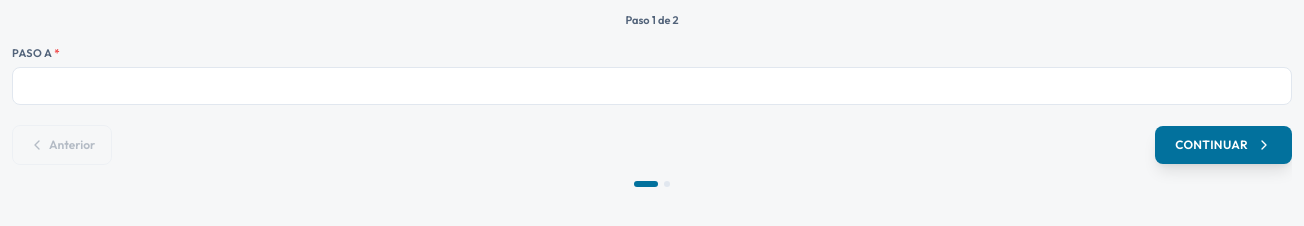
CmsFormRenderer (componente) › valida el paso actual antes de avanzar en un formulario multi-paso
The image size is (1304, 226).
Check: the text "Paso 1 de 2" is shown, box [625,13,679,27]
Sin llenar el paso 1, no avanza.
Click the button "Continuar".
click(1224, 144)  # box [1155,126,1292,164]
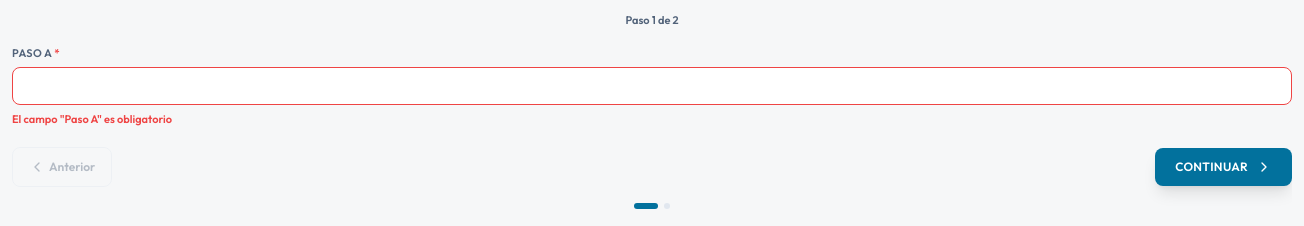
Check: the text "Paso 1 de 2" is shown, box [625,13,679,27]
Llena y avanza.
Type "ok" into the field labelled "Paso A *".
click(652, 86); type("ok")  # box [12,67,1292,104]
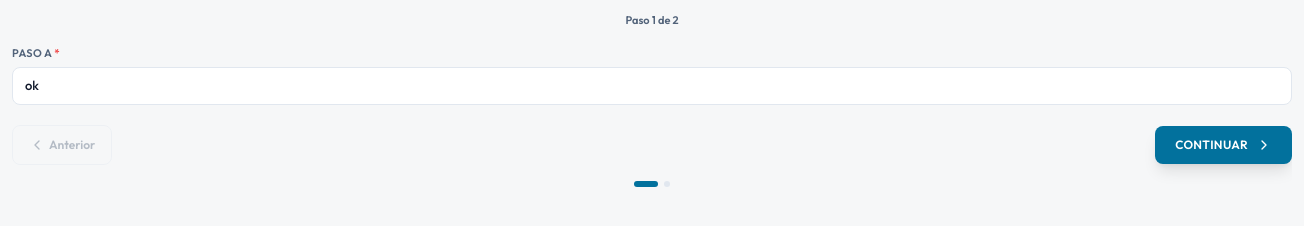
Click the button "Continuar".
click(1224, 144)  # box [1155,126,1292,164]
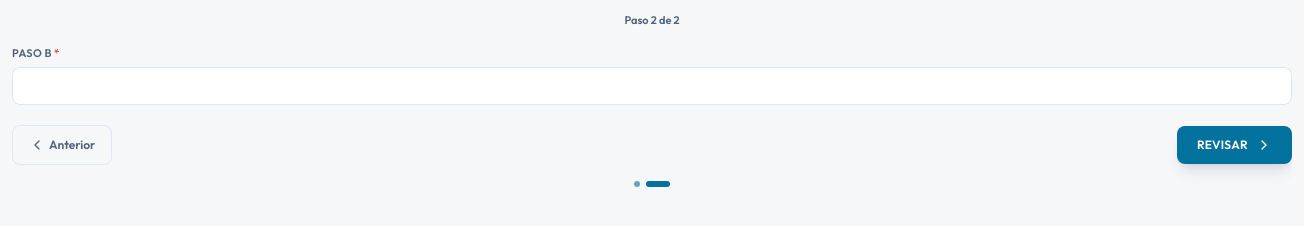
Check: the text "Paso 2 de 2" is shown, box [624,13,680,27]
Check: the field labelled "Paso B *" is shown, box [12,67,1292,104]
